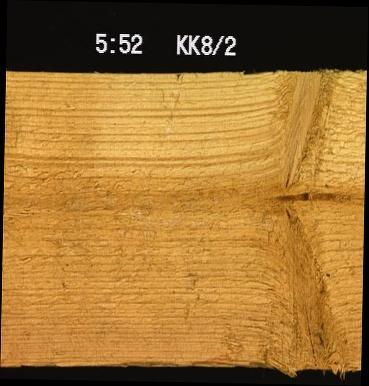wave: (118, 357, 266, 368)
